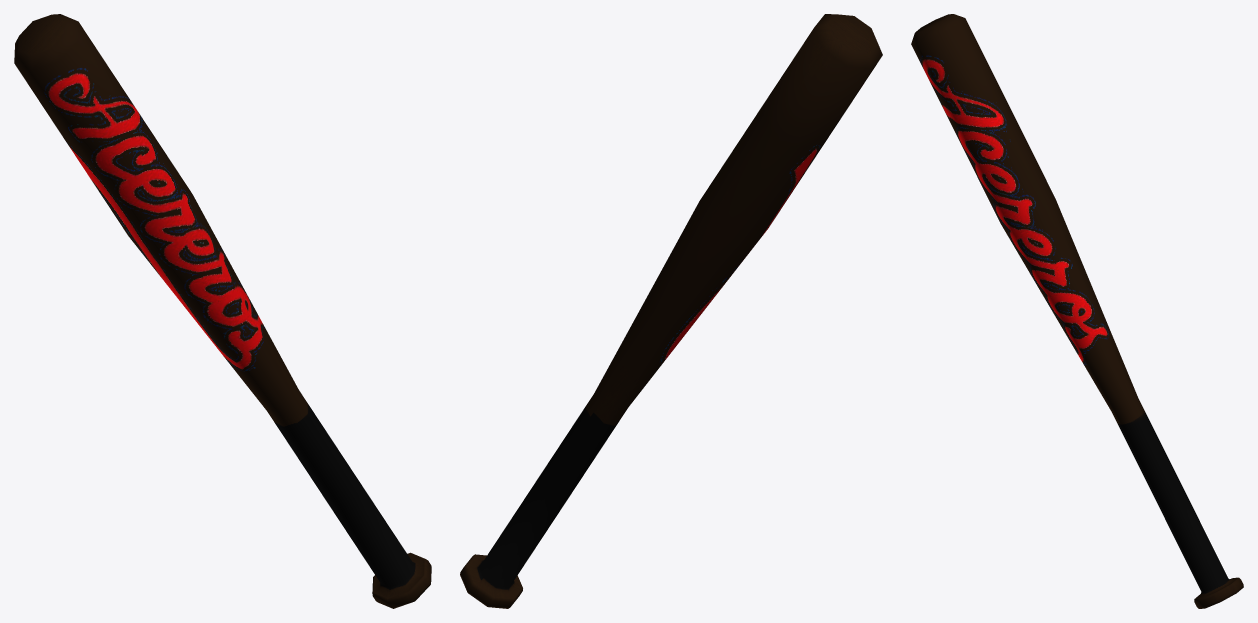
Rendered from Bat_Acereros.glb.
3 renders of one model, left to right at view 1: azimuth 30°, elevation 25°; view 2: azimuth 150°, elevation 25°; view 3: azimuth 330°, elevation 25°, orthographic. The views are drawn at different scales.
Parts seen in each view (by area): view 1: Bat_Estilizado; view 2: Bat_Estilizado; view 3: Bat_Estilizado.
Boxes of the visible parts, <box> form: Bat_Estilizado: <box>14,14,431,608</box>; Bat_Estilizado: <box>460,14,882,608</box>; Bat_Estilizado: <box>911,14,1243,608</box>.
Size of the model in its own units: 0.7436 by 1.16 by 0.1174.
Materials: 1 (1 with a texture image).
